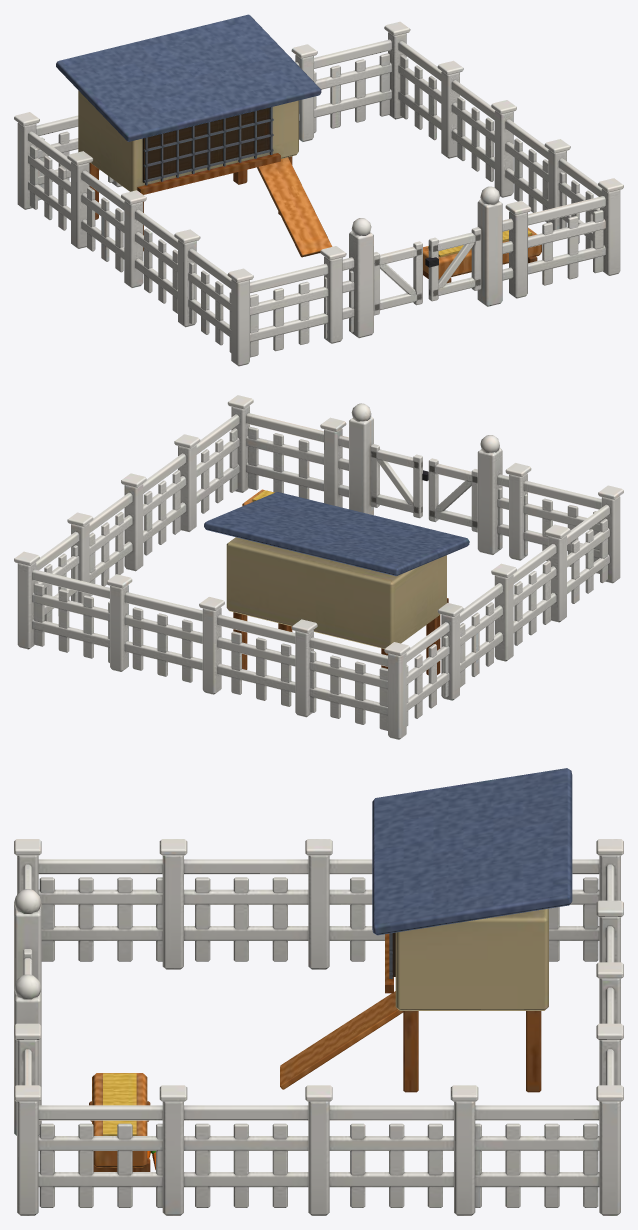
File: chinchilla_hutch.glb
3 views of the same model, one above another, from view 1: azimuth 30°, elevation 25°; view 2: azimuth 150°, elevation 25°; view 3: azimuth 270°, elevation 25° (orthographic). The views are drawn at different scales.
Parts seen in each view (by area): view 1: chinchilla_hutch, gate1, gate0; view 2: chinchilla_hutch, gate1, gate0; view 3: chinchilla_hutch.
Boxes of the visible parts, x1=… form: chinchilla_hutch: x1=14, y1=14, x2=623, y2=366; gate1: x1=425, y1=227, x2=481, y2=301; gate0: x1=374, y1=241, x2=422, y2=315; chinchilla_hutch: x1=14, y1=395, x2=623, y2=739; gate1: x1=370, y1=444, x2=428, y2=518; gate0: x1=428, y1=458, x2=477, y2=532; chinchilla_hutch: x1=14, y1=768, x2=623, y2=1215.
Bounding box in the file's own units: 1.99 × 0.7573 × 1.99.
1 material, 1 textured.
